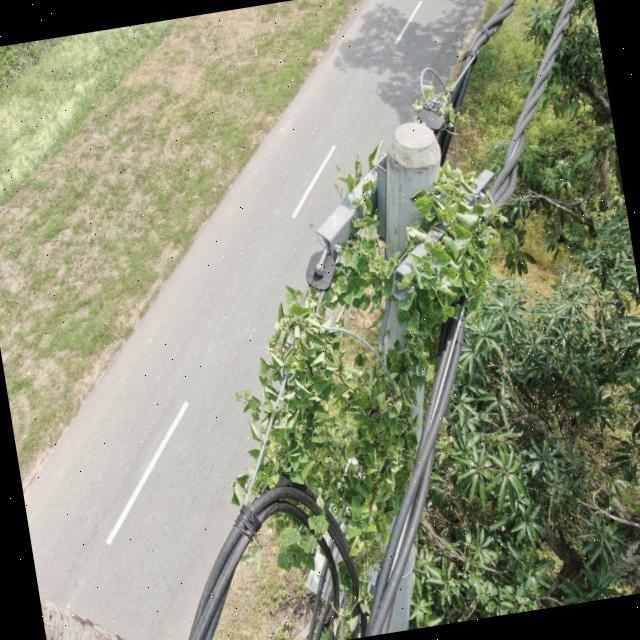critical vegetation: (160, 75, 554, 544)
